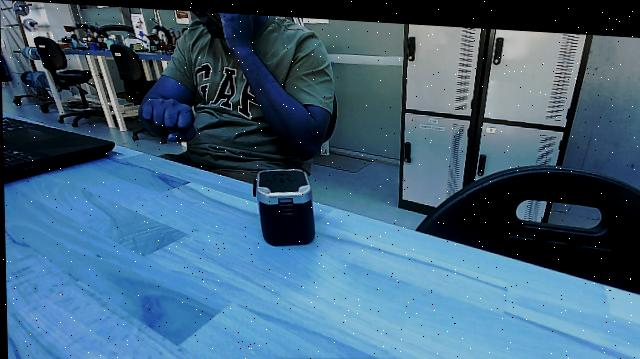adapter: (244, 157, 317, 249)
